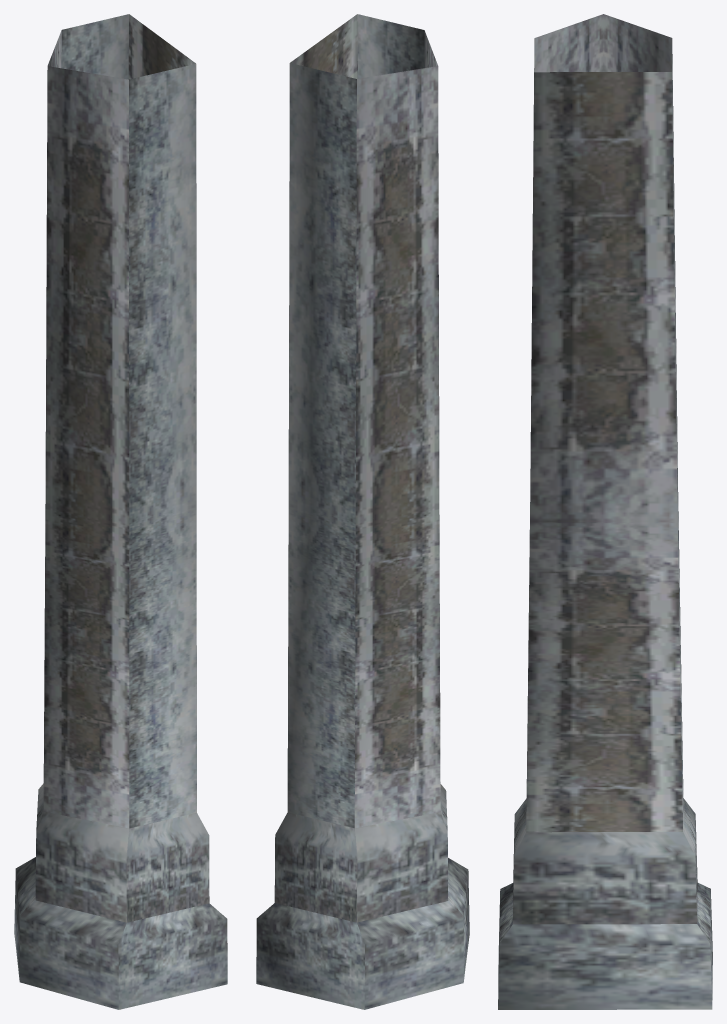
Rendered from S_Build_Snowland248.FBX.
3 views of the same model, side by side, from view 1: azimuth 30°, elevation 25°; view 2: azimuth 150°, elevation 25°; view 3: azimuth 270°, elevation 25° (orthographic). The views are drawn at different scales.
Visible parts, largest first — view 1: S_Build_Snowland248; view 2: S_Build_Snowland248; view 3: S_Build_Snowland248.
Part boxes in pixels (x1,y1,x2,y2): S_Build_Snowland248: (14,14,227,1009); S_Build_Snowland248: (256,14,469,1009); S_Build_Snowland248: (498,14,712,1009).
Bounding box in the file's own units: 102 × 119 × 571.
